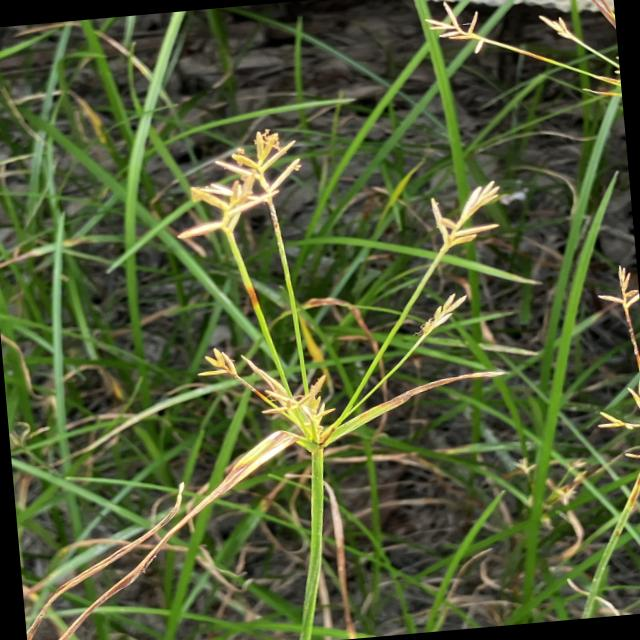cyperus: (161, 112, 519, 459), (423, 0, 622, 115), (569, 254, 640, 444)
